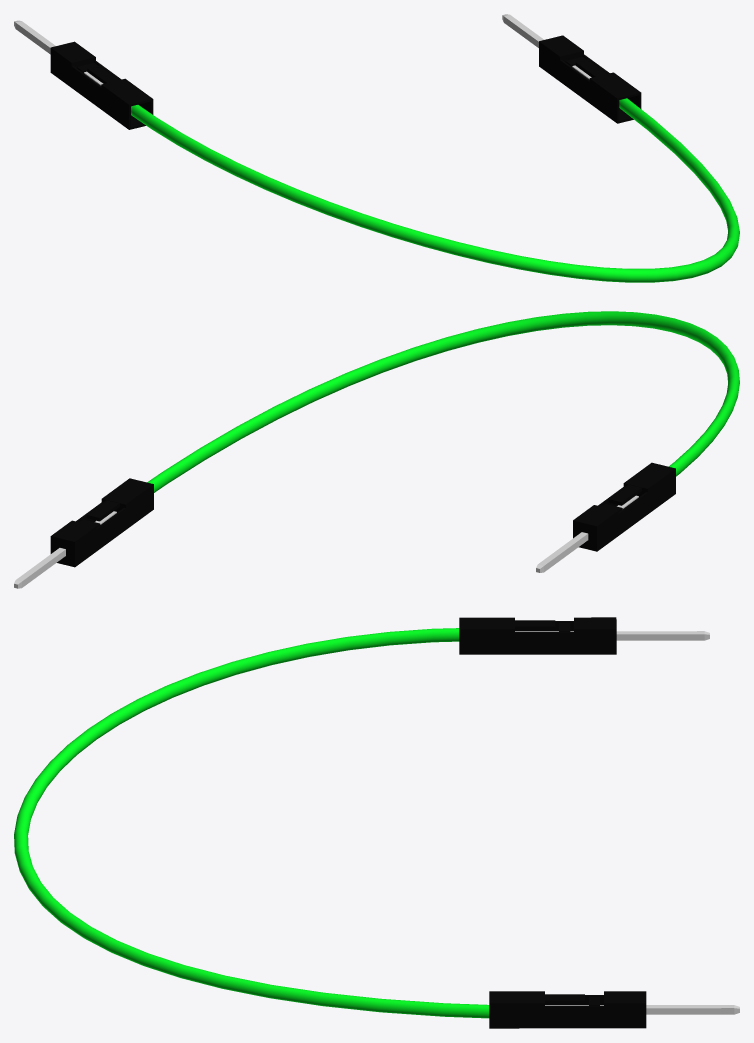
Rendered from fio.fbx.
3 views of the same model, one above another, from view 1: azimuth 30°, elevation 25°; view 2: azimuth 150°, elevation 25°; view 3: azimuth 270°, elevation 25° (orthographic).
Parts seen in each view (by area): view 1: Material_001-material.009, Metal_008-material.023, Metal_008-material.009; view 2: Material_001-material.009, Metal_008-material.009, Metal_008-material.023; view 3: Material_001-material.009, Metal_008-material.023, Metal_008-material.009.
Part boxes in pixels (bbox=[...]): Material_001-material.009: bbox=[131, 98, 739, 282]; Metal_008-material.023: bbox=[14, 20, 153, 129]; Metal_008-material.009: bbox=[502, 14, 641, 123]; Material_001-material.009: bbox=[147, 311, 739, 492]; Metal_008-material.009: bbox=[14, 478, 153, 588]; Metal_008-material.023: bbox=[536, 462, 675, 572]; Material_001-material.009: bbox=[14, 628, 489, 1018]; Metal_008-material.023: bbox=[459, 617, 709, 654]; Metal_008-material.009: bbox=[489, 991, 739, 1028].
Size of the model in its own units: 5.48 by 1.51 by 6.51.
